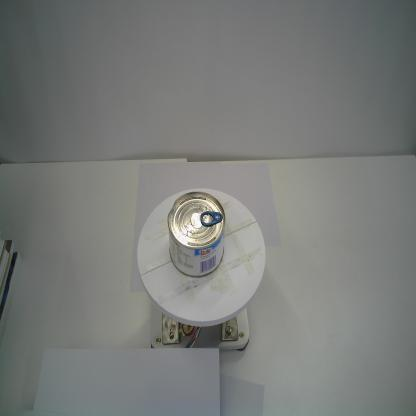Canned Food: (167, 189, 225, 280)
